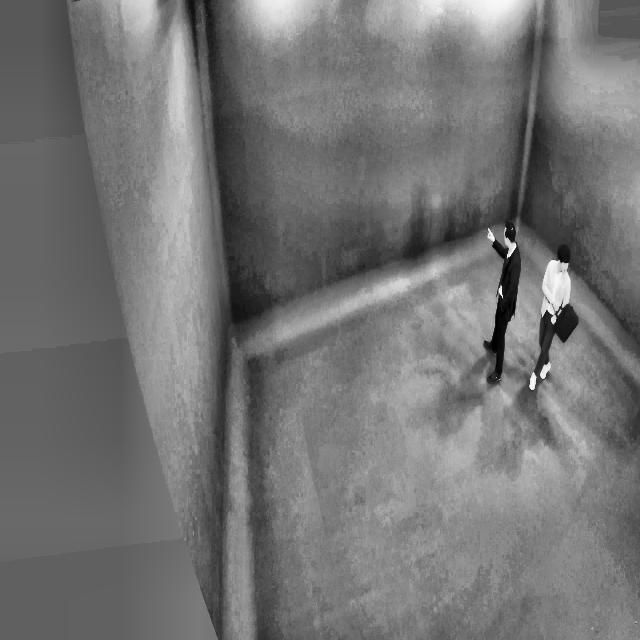assult: (470, 191, 584, 399)
